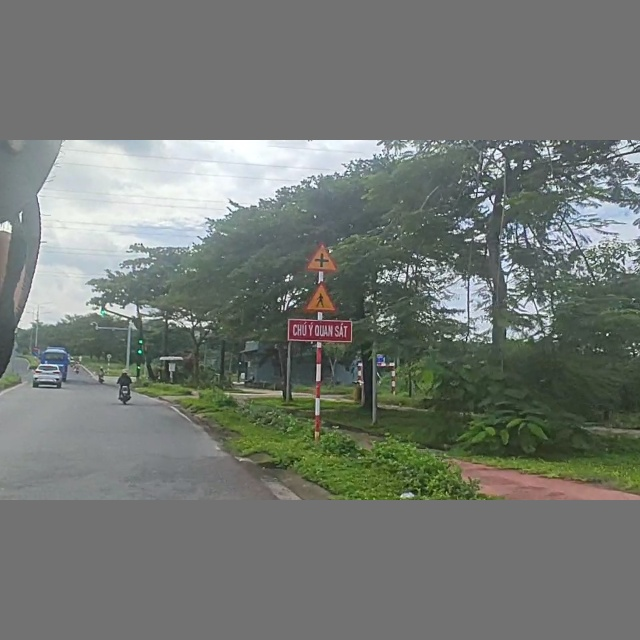W.205a: (303, 241, 341, 274)
W.224: (303, 280, 341, 313)
